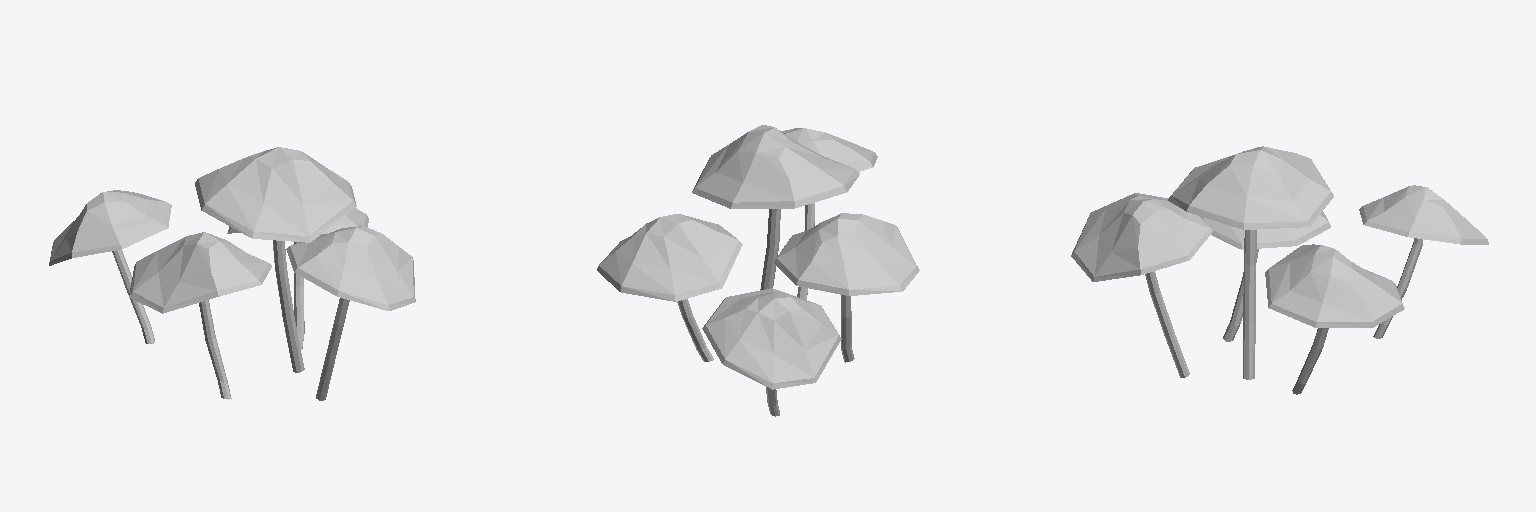
Rendered from Mushroom_Common.obj.
3 renders of one model, left to right at view 1: azimuth 30°, elevation 25°; view 2: azimuth 150°, elevation 25°; view 3: azimuth 270°, elevation 25°, orthographic.
Visible parts, largest first — view 1: Mushroom_Common; view 2: Mushroom_Common; view 3: Mushroom_Common.
Boxes of the visible parts, x1=… form: Mushroom_Common: x1=49, y1=147, x2=415, y2=400; Mushroom_Common: x1=597, y1=125, x2=919, y2=416; Mushroom_Common: x1=1071, y1=146, x2=1488, y2=394.
Size of the model in its own units: 0.5637 by 0.4635 by 0.7791.